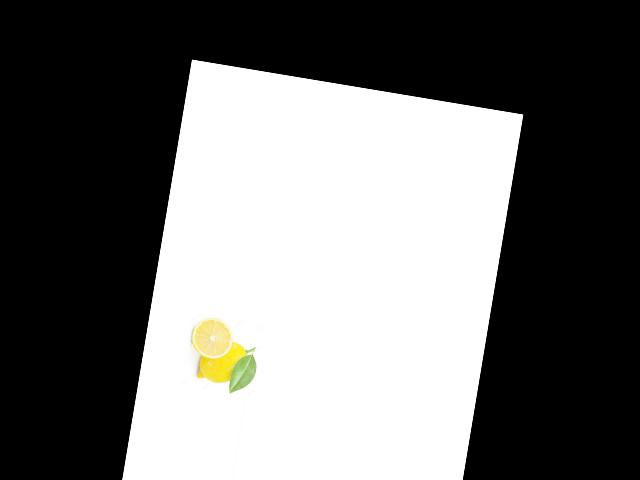lemon: (193, 333, 256, 390)
